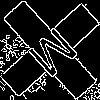M: (25, 25, 87, 87)
